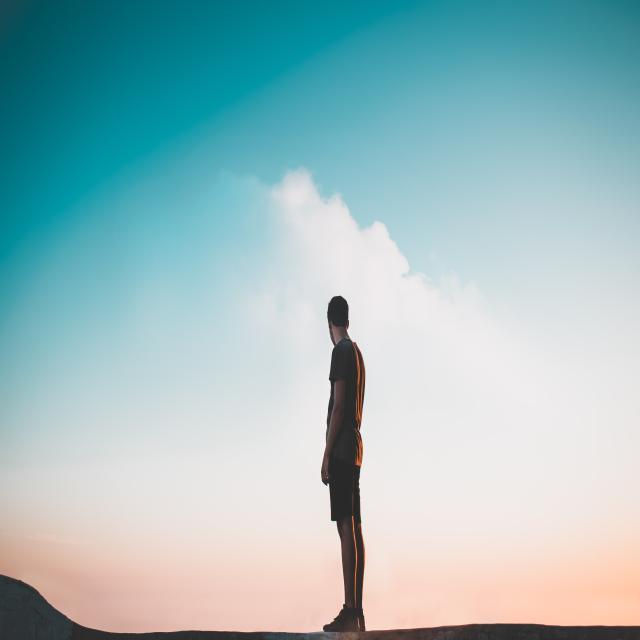standing: (320, 291, 370, 631)
